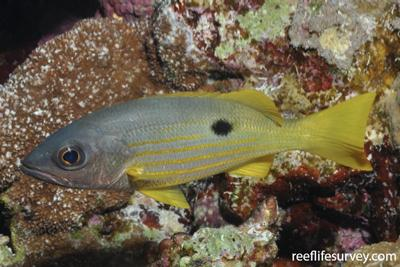Lutjanidae -Snappers-: (15, 84, 383, 213)
